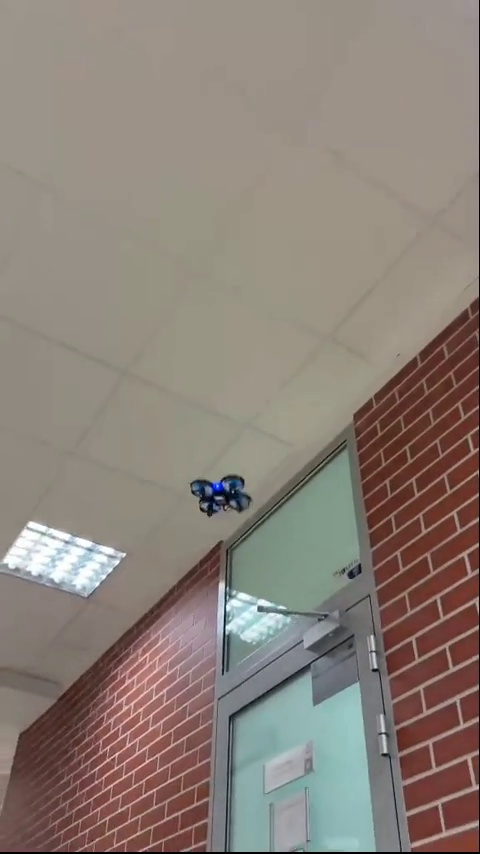drone: (186, 476, 254, 521)
